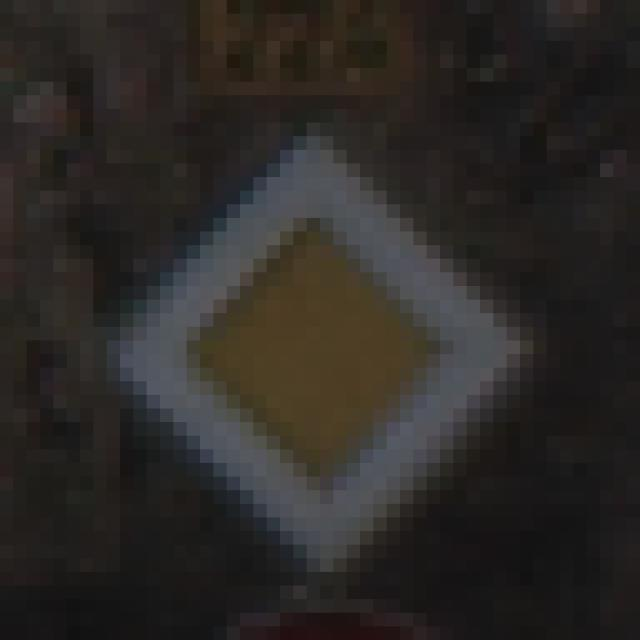Main Road: (81, 69, 574, 573)
